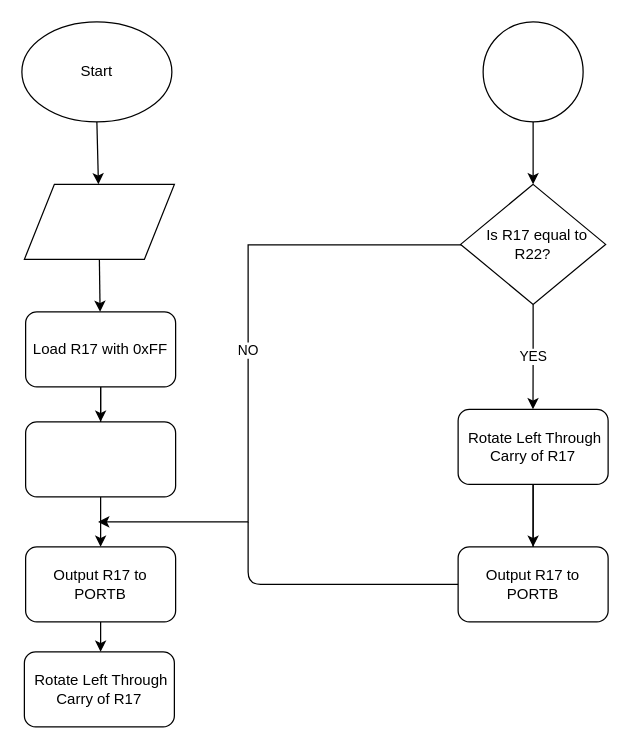
Some shapes in this 630 by 749 pixel diagram are drawn without their labels. The shapes that lost their labels are listed below. From the top down, each one's centre as x and y in pixels, then its label:
At [532,71]: "Delay (0.5 seconds)".
At [98,221]: "Set PORTB as output".
At [100,459]: "Load R22 with 0xFF".
